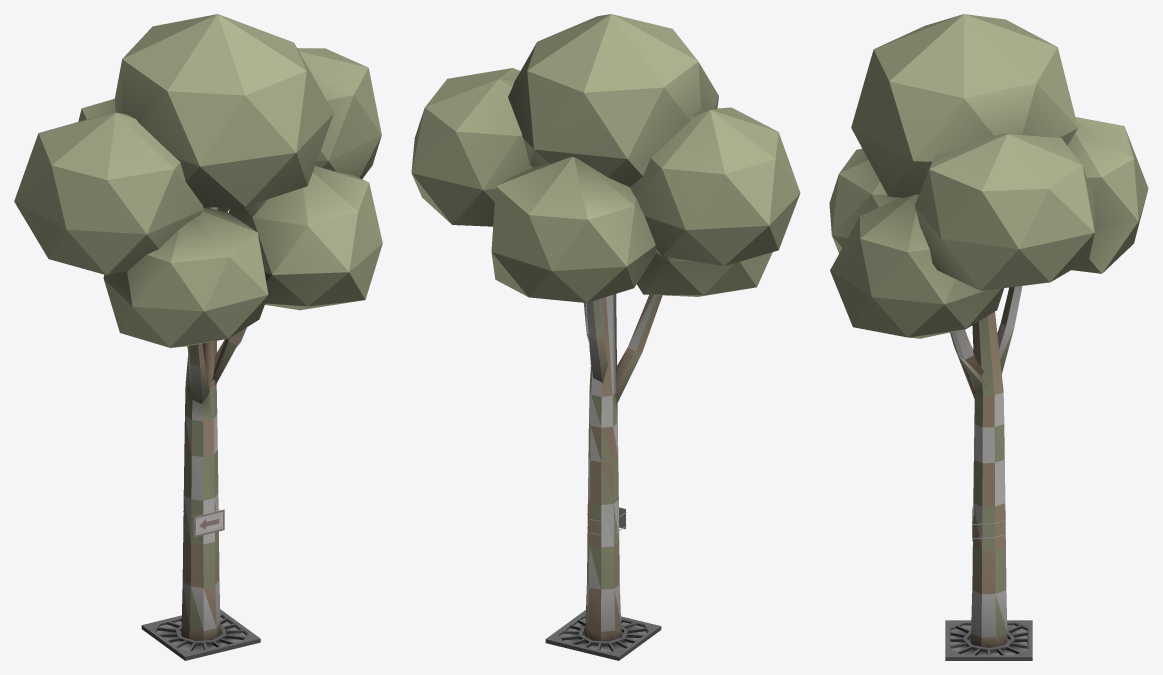
Rendered from pit.glb.
3 views of the same model, side by side, from view 1: azimuth 30°, elevation 25°; view 2: azimuth 150°, elevation 25°; view 3: azimuth 270°, elevation 25° (orthographic). The views are drawn at different scales.
Visible parts, largest first — view 1: pit; view 2: pit; view 3: pit.
Boxes of the visible parts, x1,y1,x2,y2 form: pit: [14, 14, 382, 660]; pit: [411, 14, 800, 660]; pit: [829, 14, 1148, 660].
Size of the model in its own units: 4.74 by 7.98 by 3.66.
